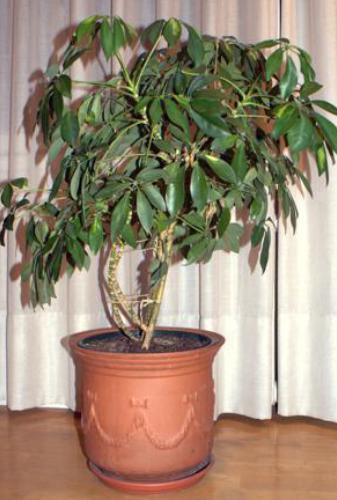Matera: (0, 0, 329, 500)
